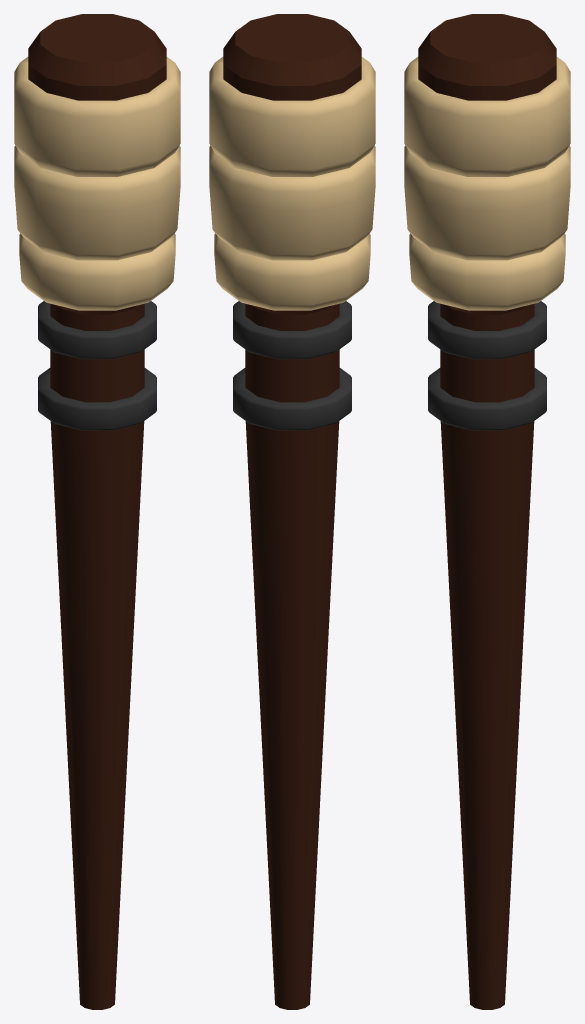
File: updated-torch.FBX
3 views of the same model, side by side, from view 1: azimuth 30°, elevation 25°; view 2: azimuth 150°, elevation 25°; view 3: azimuth 270°, elevation 25° (orthographic).
Visible parts, largest first — view 1: torch-with-smoothing; view 2: torch-with-smoothing; view 3: torch-with-smoothing.
Boxes of the visible parts, x1=… form: torch-with-smoothing: x1=14, y1=14, x2=180, y2=1009; torch-with-smoothing: x1=209, y1=14, x2=375, y2=1009; torch-with-smoothing: x1=404, y1=14, x2=570, y2=1009.
Size of the model in its own units: 3.02 by 19.29 by 3.02.
